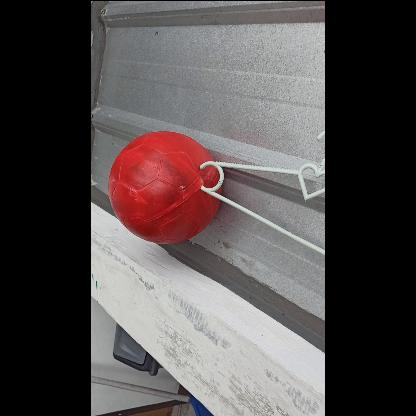red_ball: (107, 130, 221, 244)
